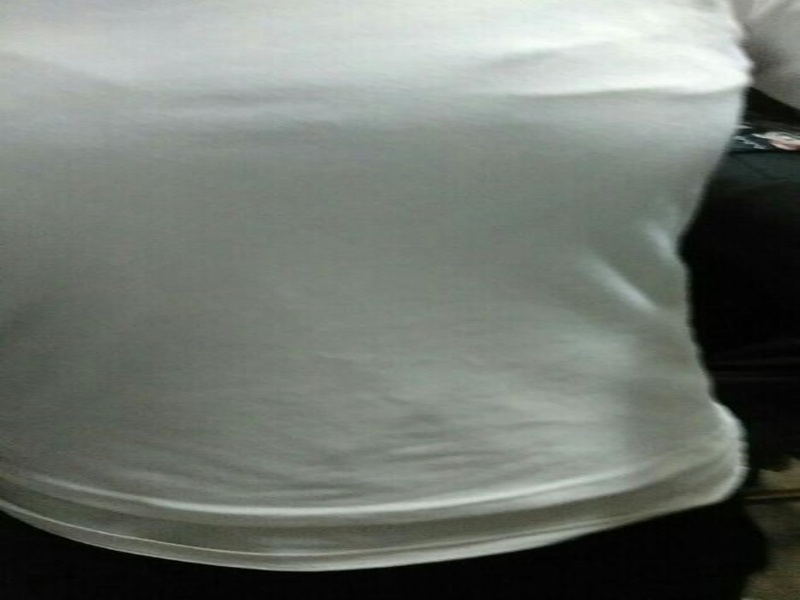long_sleeved_shirt: (0, 0, 797, 574)
